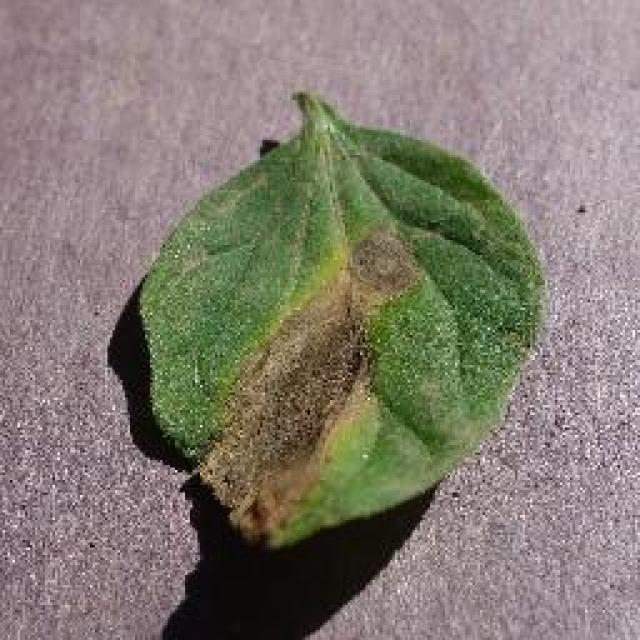Tomato___Early_blight: (139, 91, 543, 554)
